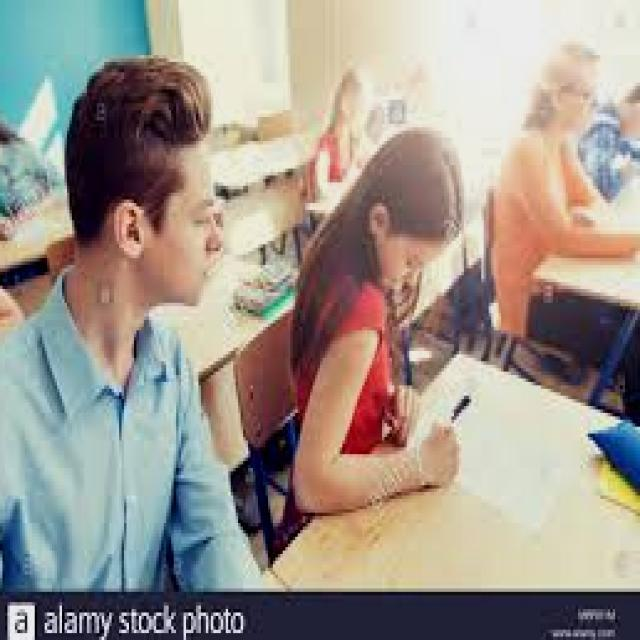cheating: (0, 46, 259, 587)
good: (280, 116, 493, 514)
